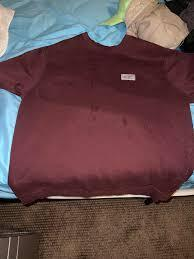mustard: (88, 99, 101, 122), (119, 114, 128, 129)
